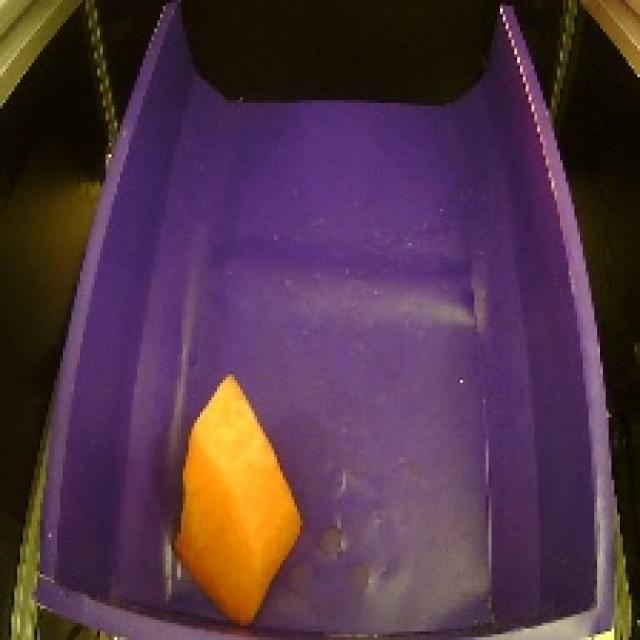carrots: (164, 365, 309, 631)
